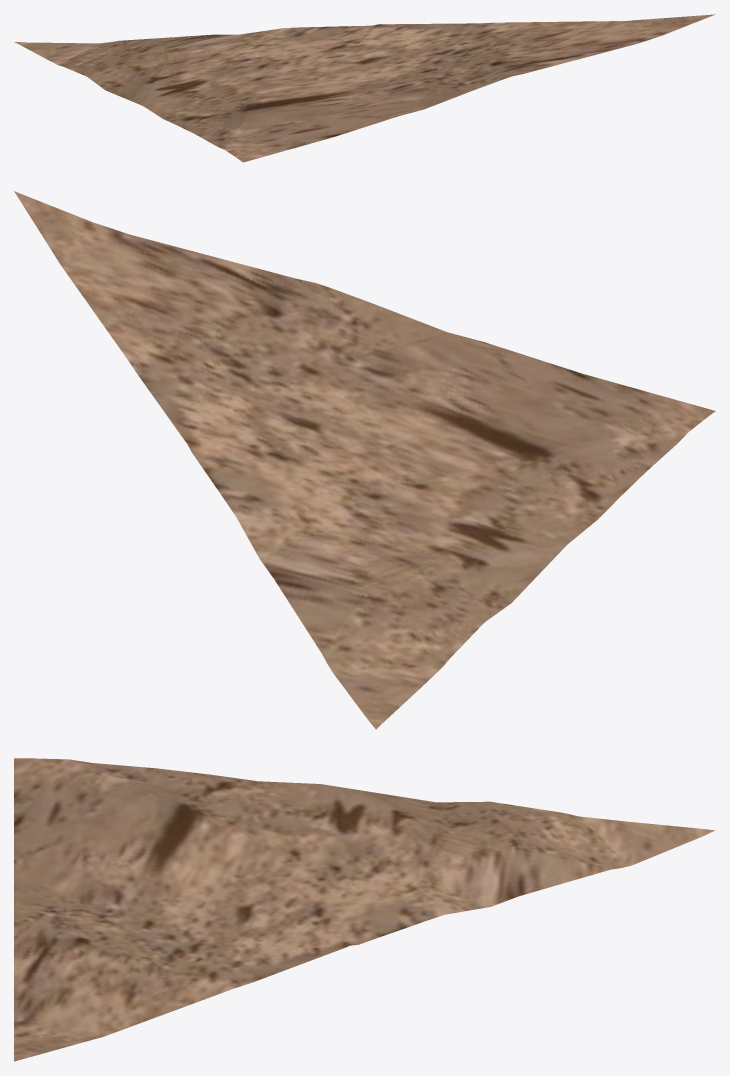
The picture shows the model from 3 angles, top to bottom: view 1: azimuth 30°, elevation 25°; view 2: azimuth 150°, elevation 25°; view 3: azimuth 270°, elevation 25°; orthographic projection. The views are drawn at different scales.
Bounding box in the file's own units: 4.39 × 0.7094 × 3.69.
Materials: 1 (1 with a texture image).
